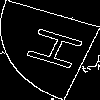H: (24, 25, 97, 76)
